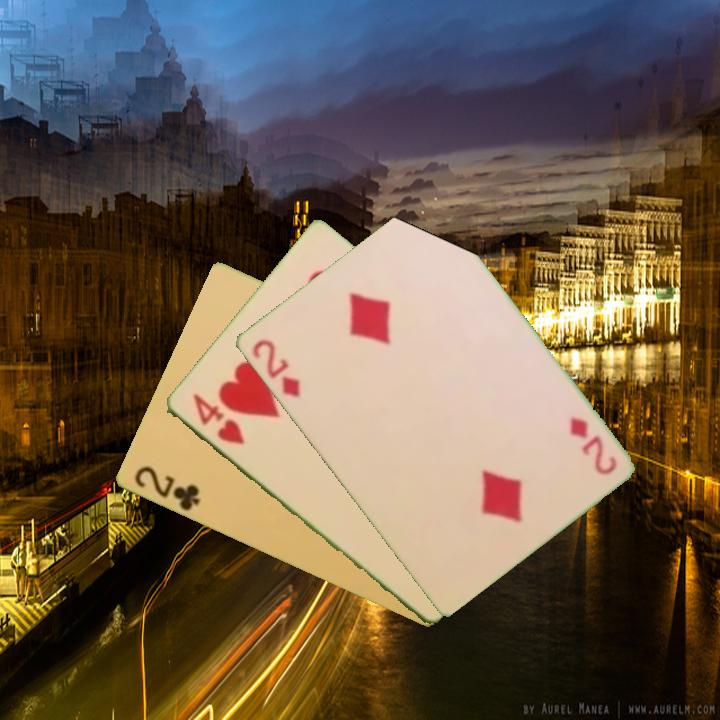2c: (130, 462, 203, 514)
2d: (248, 335, 303, 400), (565, 413, 620, 478)
4h: (188, 389, 247, 448)
